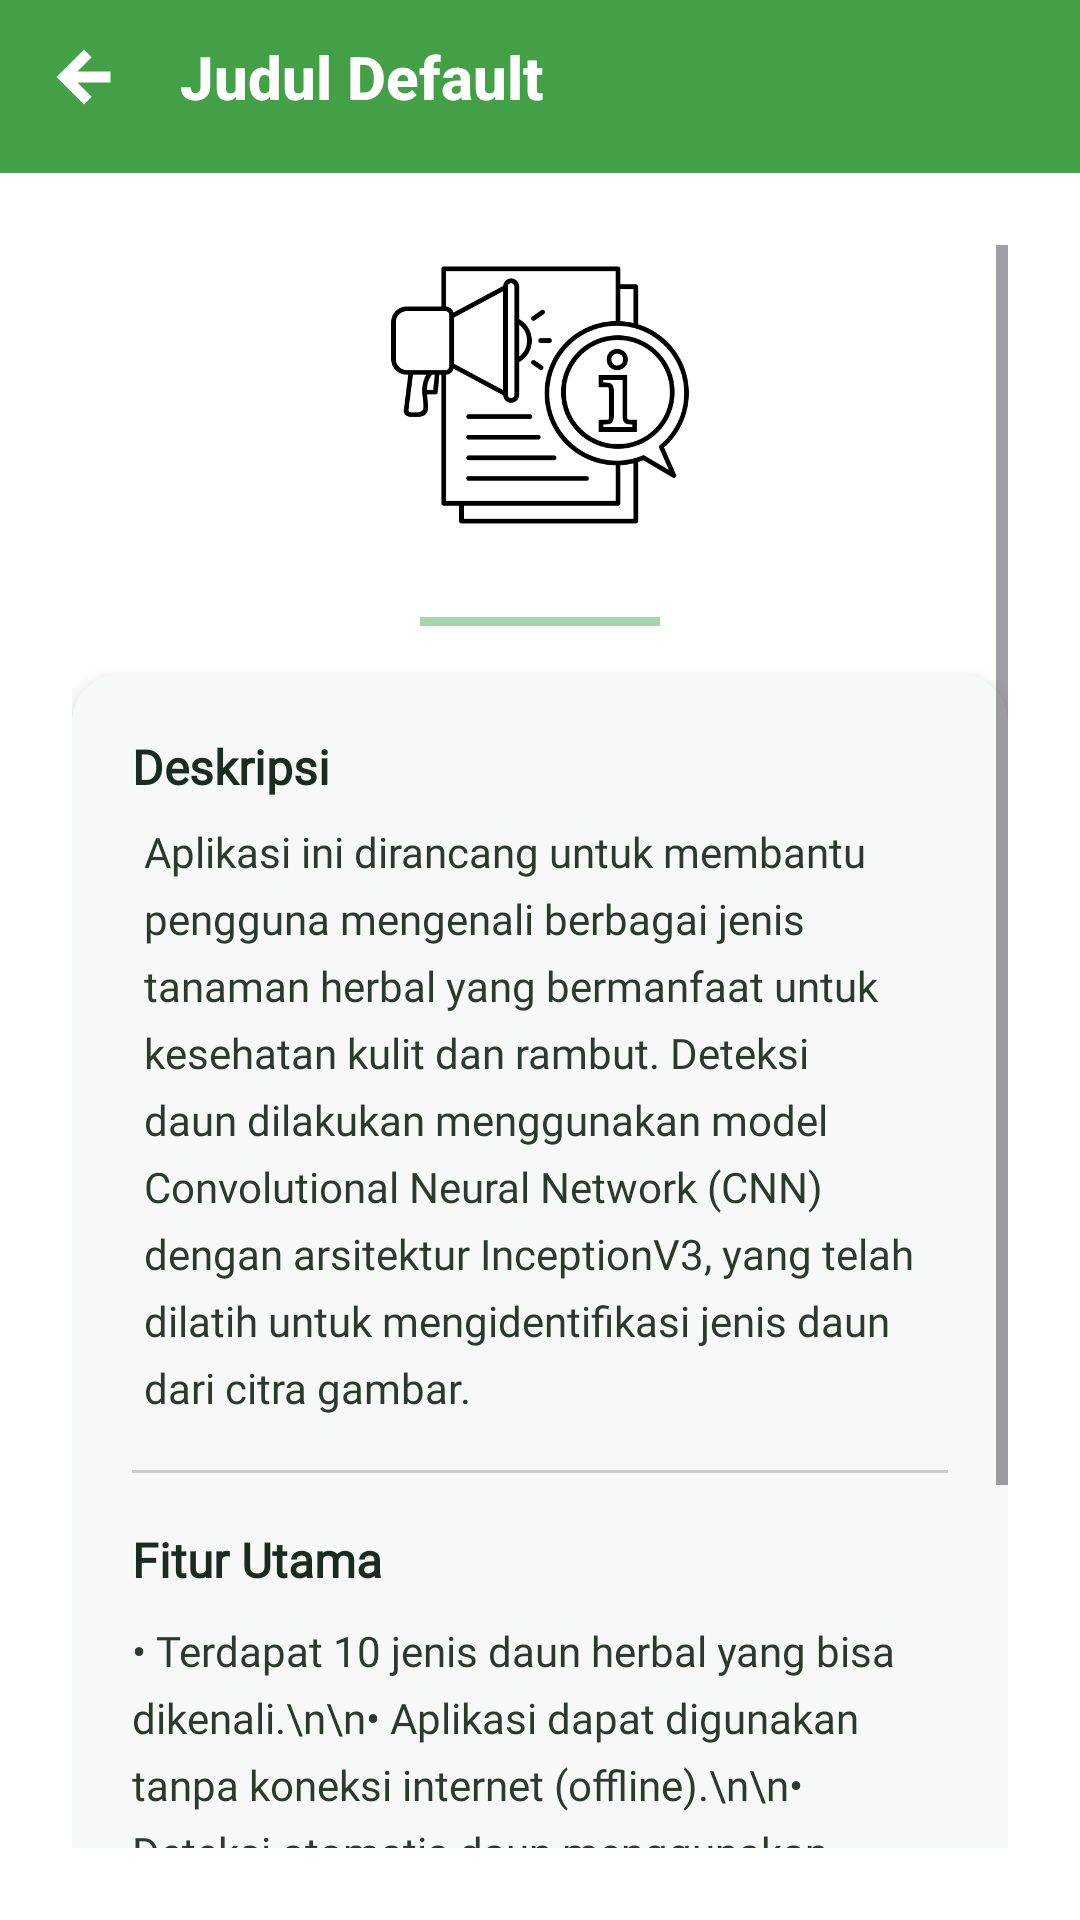

Icons on this 1080x1920 Android screen, each with its box as (x1,y1,x2,y2):
Gambar Info: (391,266,689,524)
